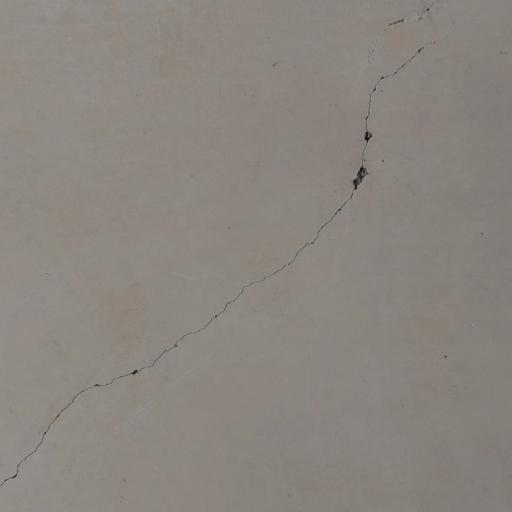minor_crack: (0, 7, 457, 512)
